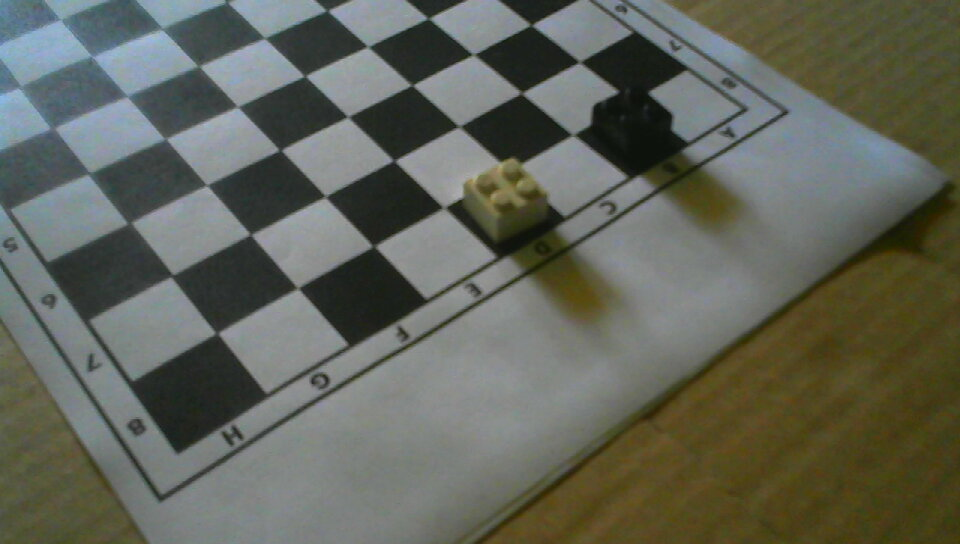bp: (590, 86, 675, 163)
wp: (461, 155, 548, 241)
